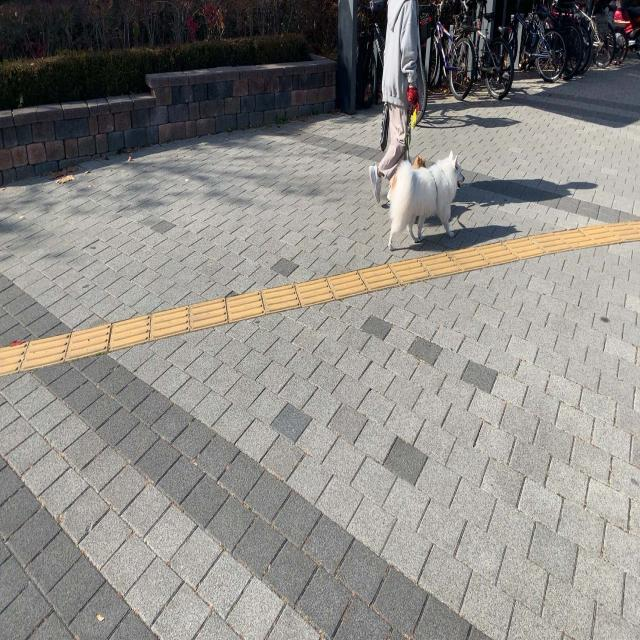Leashed_Dog: (386, 108, 467, 251)
